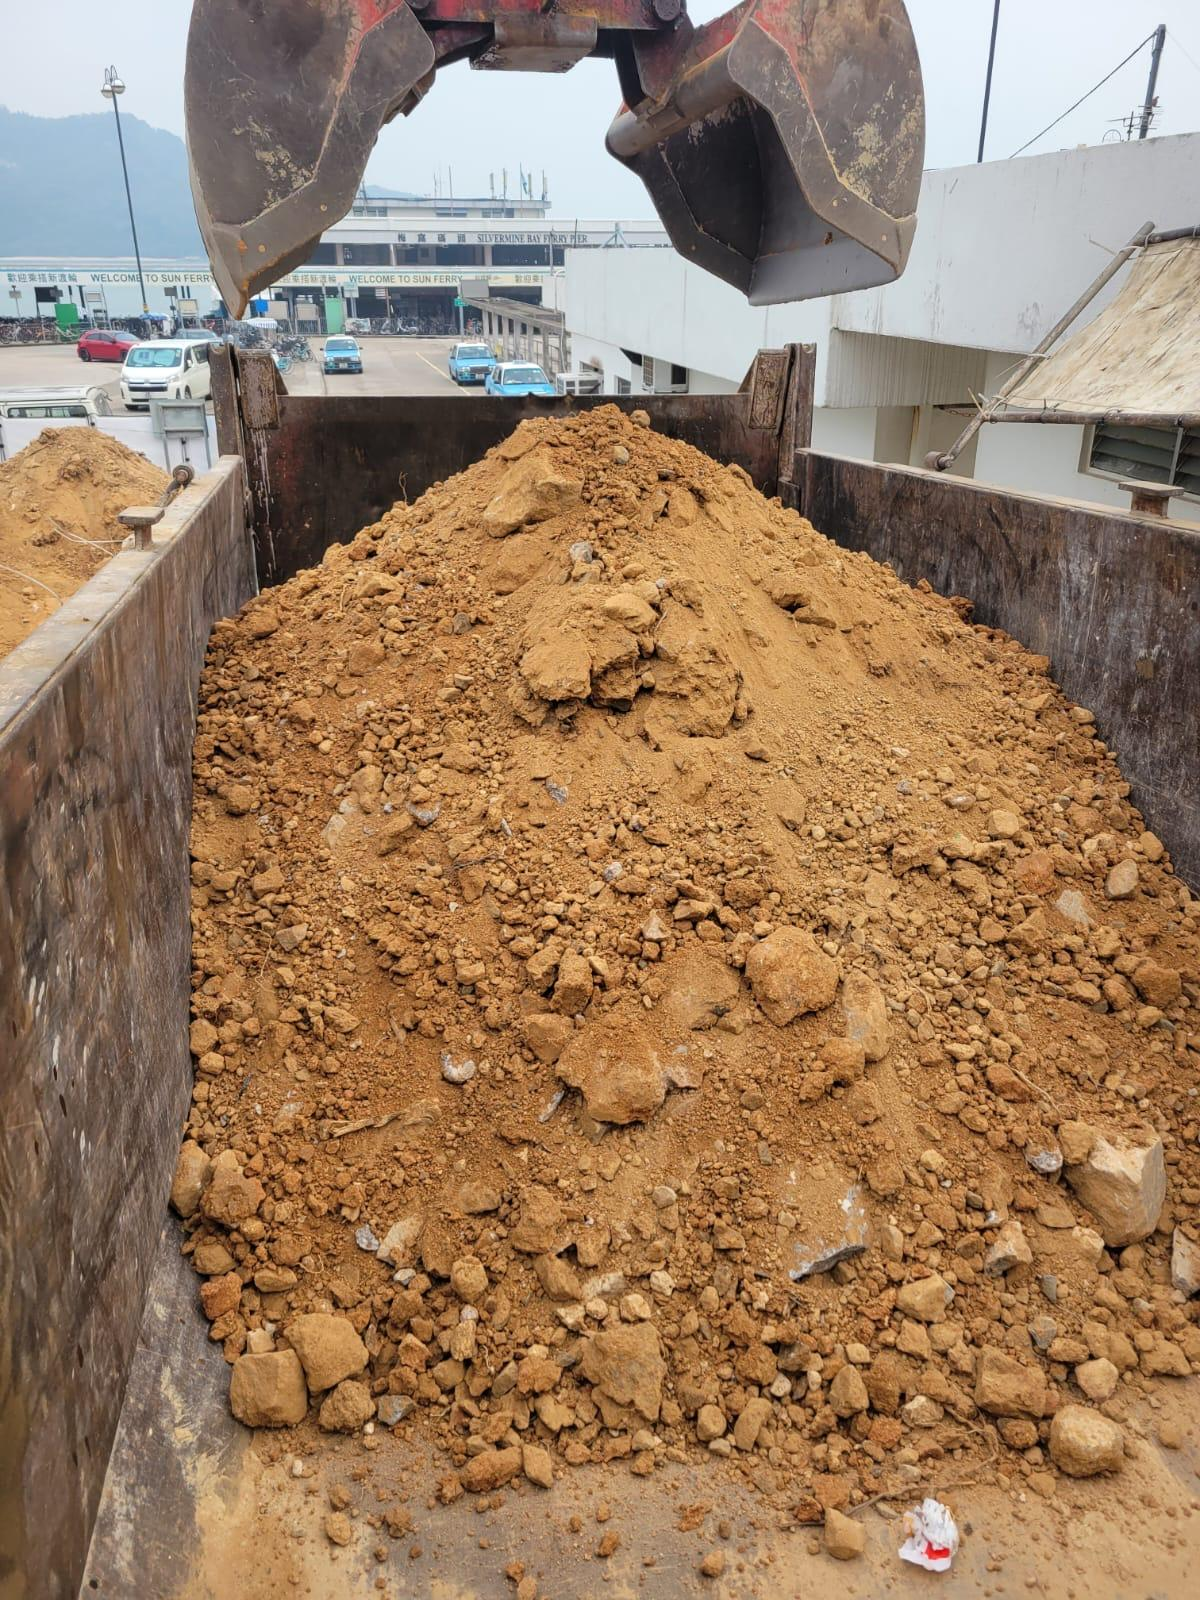dry: (190, 402, 1200, 1437)
